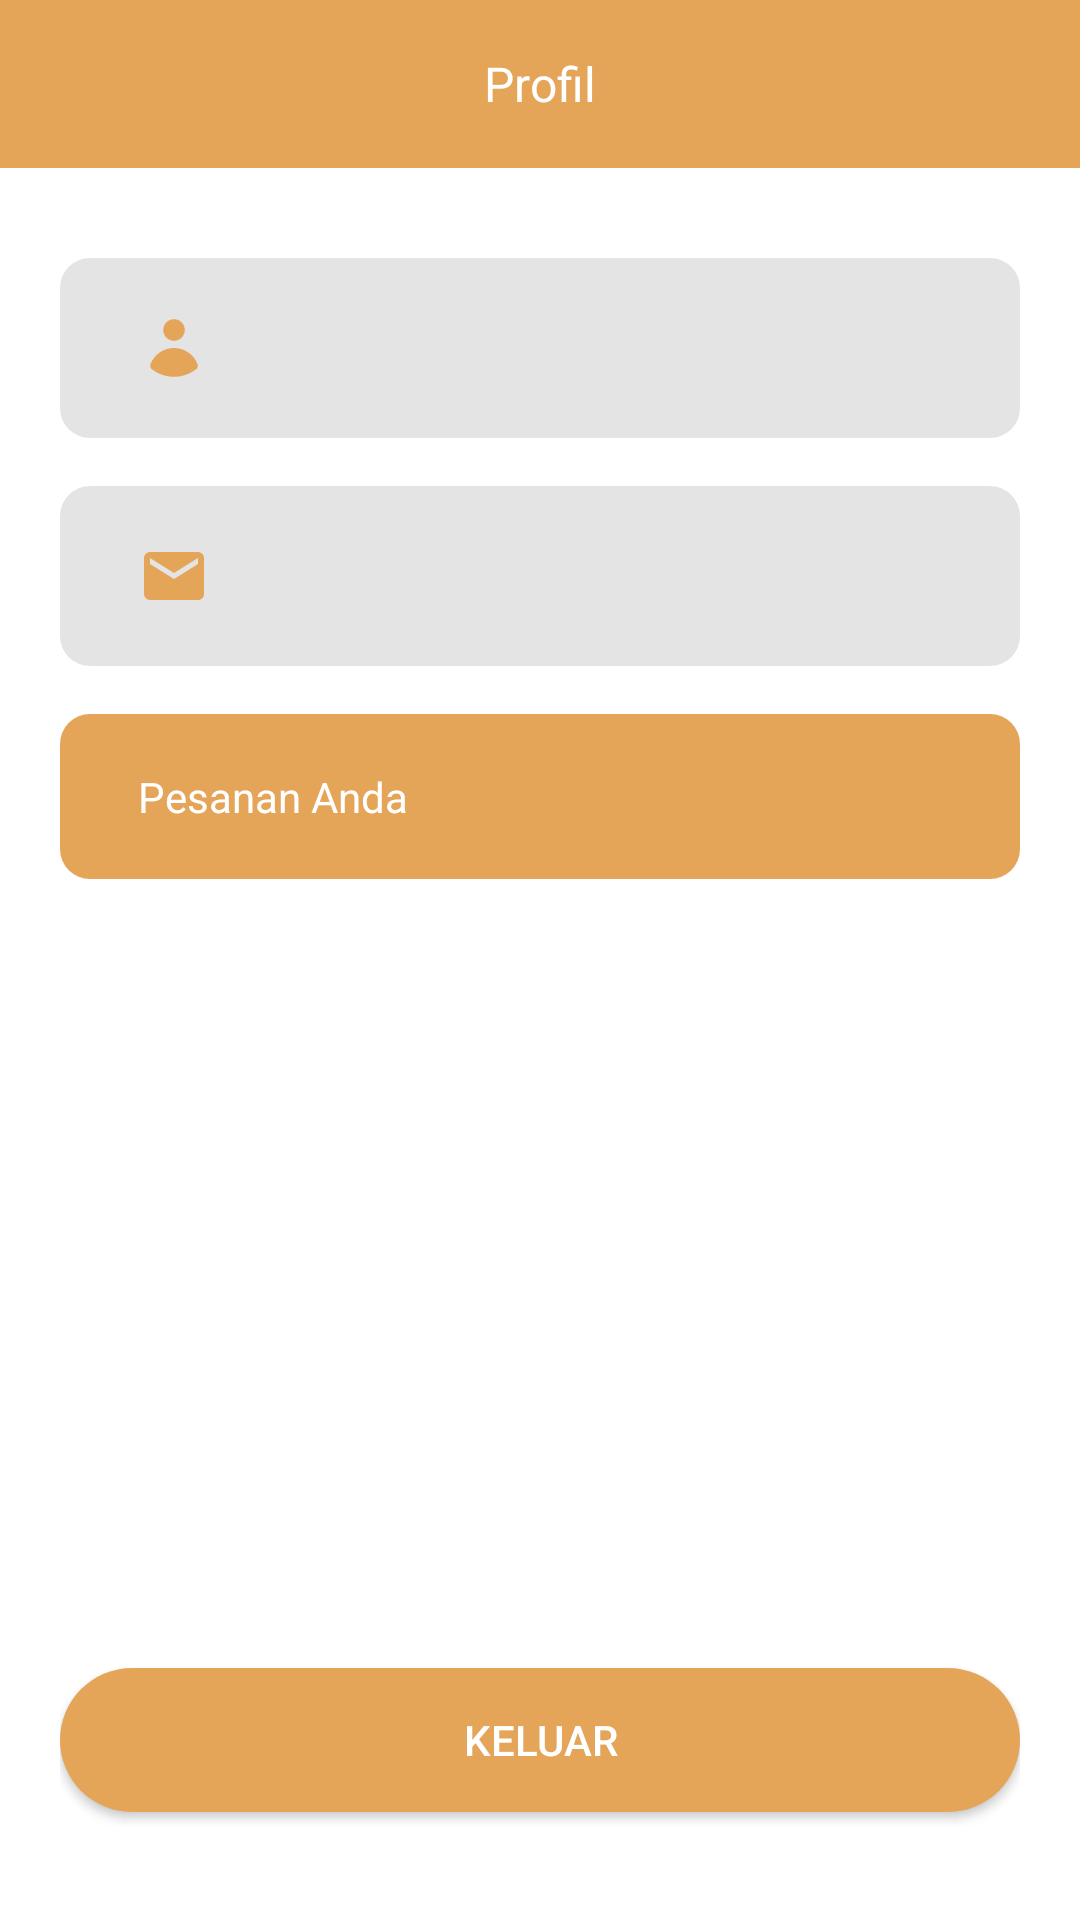

Point at icon controls on the screen. Image size 1080px x 1920px, points as point (x, y).
email: point (174, 576)
user: point (174, 348)
